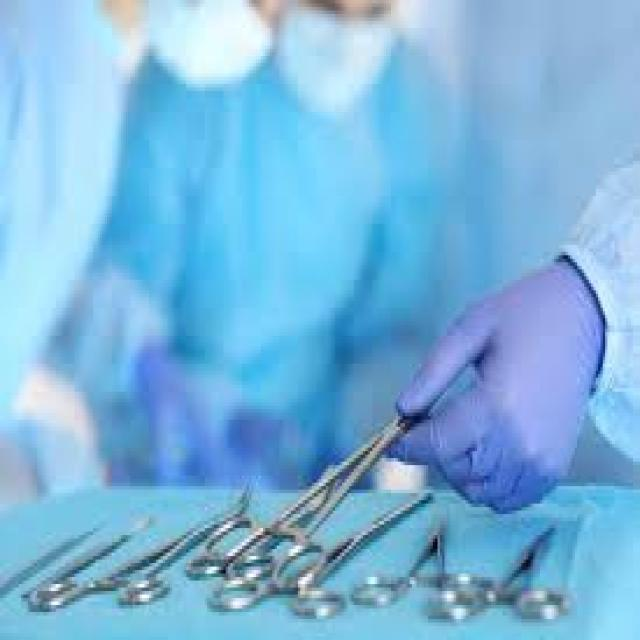tools_table: (0, 503, 637, 640)
